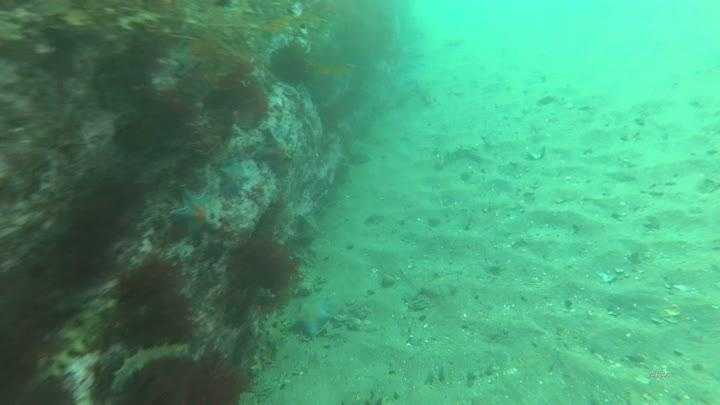echinus: (223, 234, 293, 297)
holothurian: (89, 341, 236, 405), (247, 310, 289, 376)
starfish: (168, 186, 221, 242), (252, 125, 298, 177), (286, 295, 337, 340), (215, 155, 252, 200), (293, 209, 327, 250)
